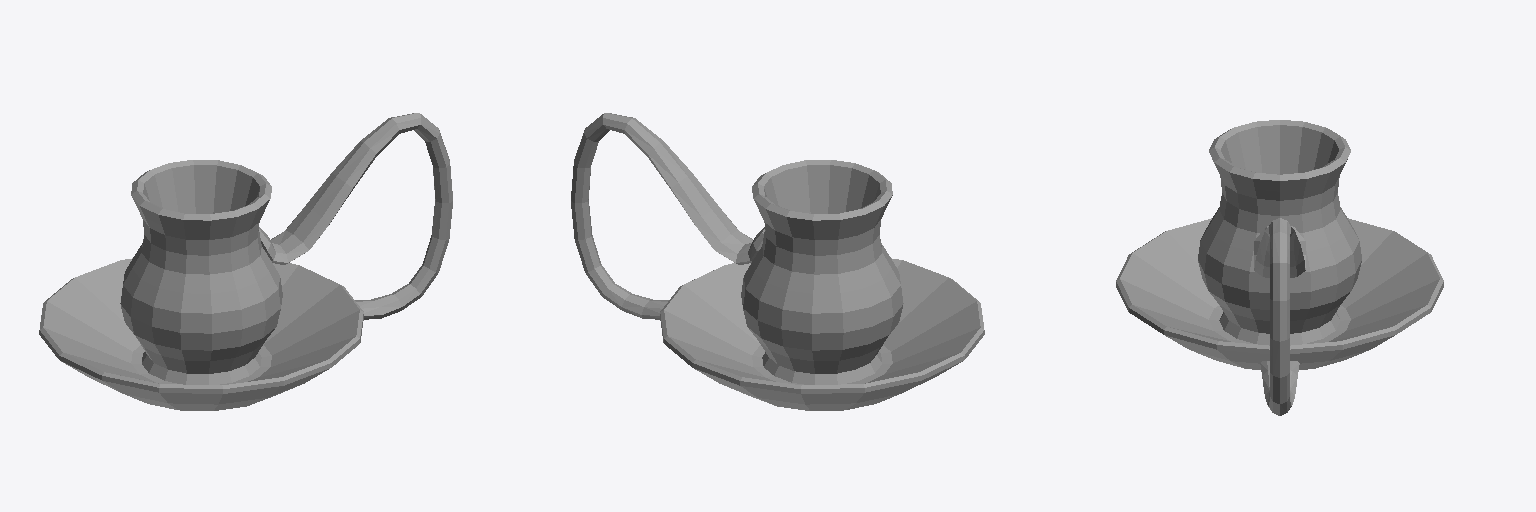
File: trn_CandleCup.obj
3 views of the same model, side by side, from view 1: azimuth 30°, elevation 25°; view 2: azimuth 150°, elevation 25°; view 3: azimuth 270°, elevation 25° (orthographic).
Visible parts, largest first — view 1: trn_CandleCup_Mesh.012; view 2: trn_CandleCup_Mesh.012; view 3: trn_CandleCup_Mesh.012.
Boxes of the visible parts, box(x1,y1,x2,y2) form: trn_CandleCup_Mesh.012: box(39, 113, 452, 410); trn_CandleCup_Mesh.012: box(571, 113, 984, 410); trn_CandleCup_Mesh.012: box(1116, 120, 1443, 415).
Bounding box in the file's own units: 0.3556 × 0.1808 × 0.2574.